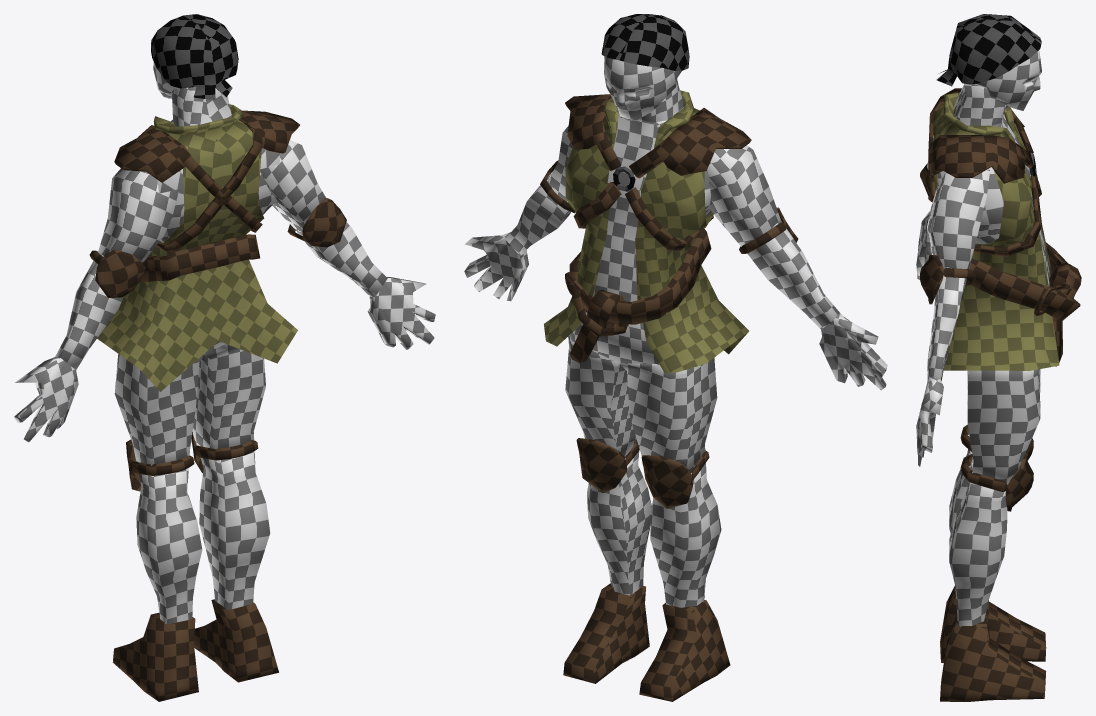
The model's file is Player.obj.
The picture shows the model from 3 angles, left to right: view 1: azimuth 30°, elevation 25°; view 2: azimuth 150°, elevation 25°; view 3: azimuth 270°, elevation 25°; orthographic projection.
Parts seen in each view (by area): view 1: Torso, Right Lower Leg, Left Lower Leg, Left Thigh, Right Thigh, Bandanna, Left Shoe, Left Upper Arm, Right Shoe, Right Upper Arm, Right Hand, Left Hand (+8 smaller); view 2: Torso, Left Thigh, Hips, Left Lower Leg, Right Lower Leg, Left Shoe, Right Shoe, Right Thigh, Left Upper Arm, Bandanna, Left Forearm, Left Hand (+8 smaller); view 3: Torso, Right Thigh, Right Lower Leg, Right Shoe, Bandanna, Right Upper Arm, Hips, Left Shoe, Right Forearm, Head, Neck, Right Knee Pad (+5 smaller).
Boxes of the visible parts, <box> form: Torso: <box>97,104,299,391</box>; Right Lower Leg: <box>199,451,270,610</box>; Left Lower Leg: <box>136,468,202,624</box>; Left Thigh: <box>114,354,204,465</box>; Right Thigh: <box>192,344,265,449</box>; Bandanna: <box>151,14,238,100</box>; Left Shoe: <box>112,612,198,701</box>; Left Upper Arm: <box>98,168,179,263</box>; Right Shoe: <box>194,599,278,682</box>; Right Upper Arm: <box>260,140,325,232</box>; Right Hand: <box>367,277,435,349</box>; Left Hand: <box>14,357,78,442</box>; Torso: <box>544,90,751,372</box>; Left Thigh: <box>619,358,717,472</box>; Hips: <box>565,228,711,363</box>; Left Lower Leg: <box>650,463,721,607</box>; Right Lower Leg: <box>587,451,651,595</box>; Left Shoe: <box>639,600,730,701</box>; Right Shoe: <box>563,583,649,683</box>; Right Thigh: <box>565,335,636,457</box>; Left Upper Arm: <box>707,145,780,254</box>; Bandanna: <box>601,14,689,70</box>; Left Forearm: <box>748,220,839,329</box>; Left Hand: <box>819,312,887,390</box>; Torso: <box>928,88,1059,380</box>; Right Thigh: <box>967,369,1040,483</box>; Right Lower Leg: <box>949,464,1007,625</box>; Right Shoe: <box>940,613,1046,701</box>; Bandanna: <box>936,14,1041,86</box>; Right Upper Arm: <box>927,169,989,286</box>; Hips: <box>969,242,1081,366</box>; Left Shoe: <box>940,586,1046,662</box>; Right Forearm: <box>927,266,965,383</box>; Head: <box>975,50,1041,110</box>; Neck: <box>953,83,1008,125</box>; Right Knee Pad: <box>960,452,1033,511</box>.
Size of the model in its own units: 1.24 by 1.85 by 0.4231.
